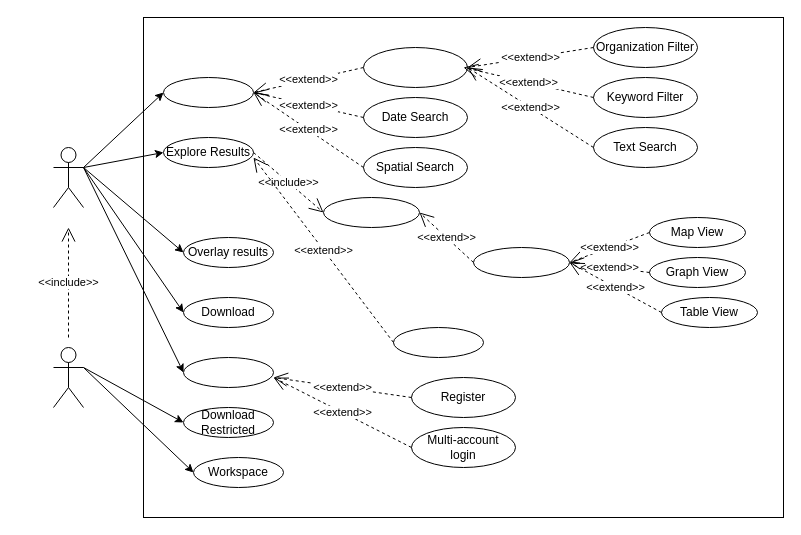
The diagram is 801 pixels wide and 535 high, and some of its shapes have lost their labels. Each missing label, with the centre of its shape:
Advanced Search: pixel 415 67
Anonymous user: pixel 68 177
Authenticated User: pixel 68 377
Configuration: pixel 438 342
Facet navigation: pixel 371 212
Login: pixel 228 372
Pre-visualization: pixel 521 262
Search: pixel 208 92
